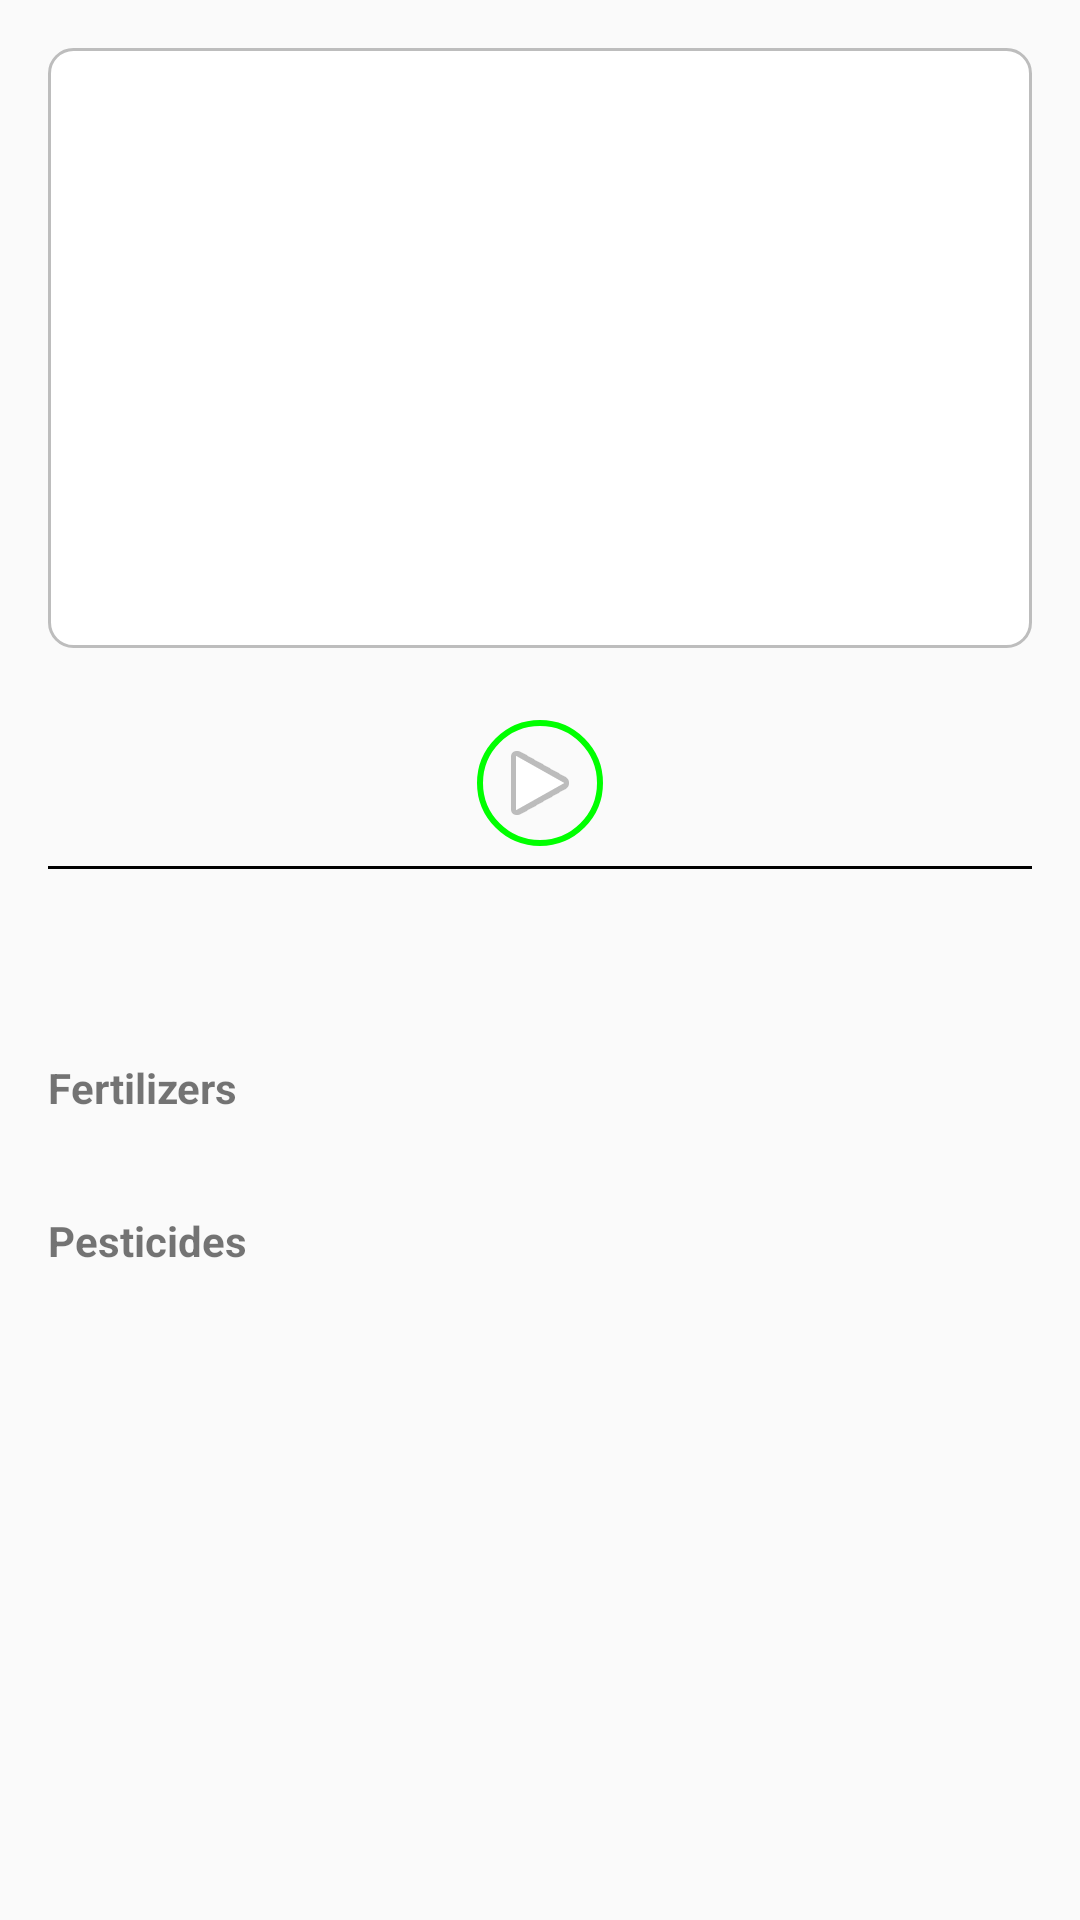

Where icons sit on this 1080 × 1920 app screen, as (x1, y1, x2, y2):
play: (477, 720, 603, 846)
